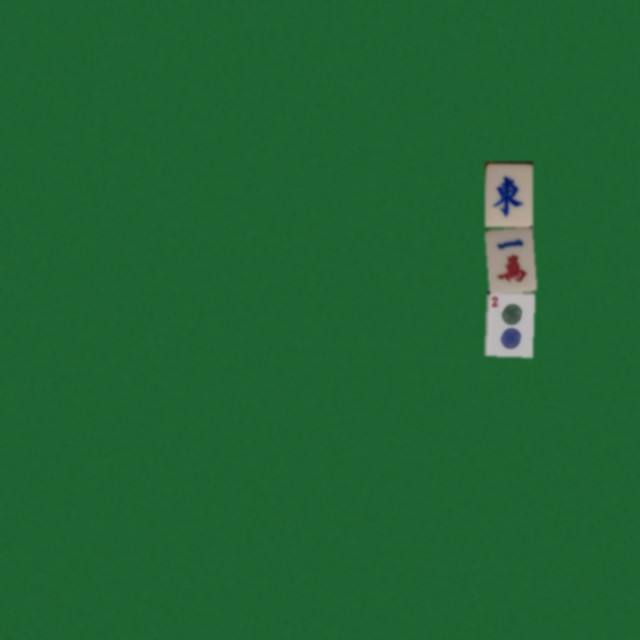tile: (484, 161, 532, 226), (484, 226, 532, 291), (484, 291, 532, 356)
